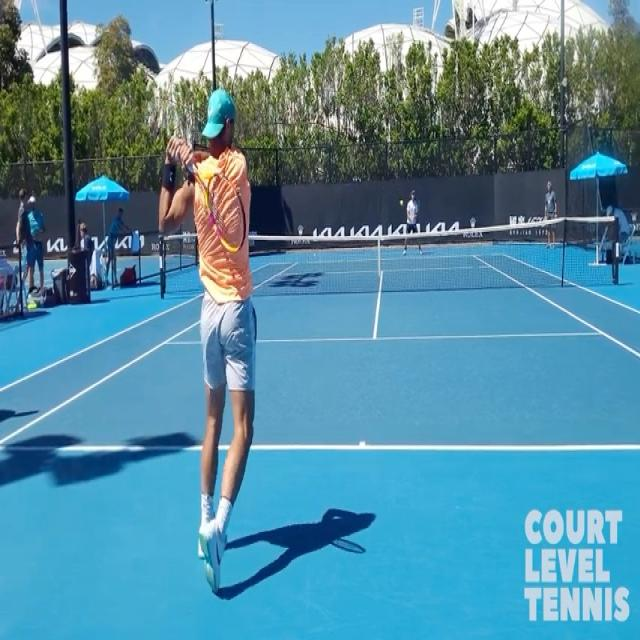backhand-finish: (155, 73, 259, 607)
